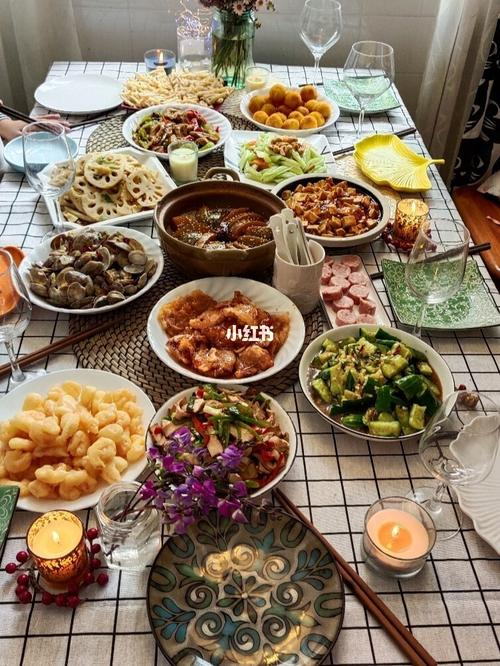food: (3, 365, 155, 511), (296, 310, 454, 450), (137, 381, 298, 514), (145, 266, 304, 388), (17, 213, 158, 316), (149, 177, 287, 278), (275, 166, 389, 250), (124, 94, 233, 165), (241, 72, 340, 136), (229, 127, 330, 188), (350, 128, 432, 191), (385, 190, 437, 253)
